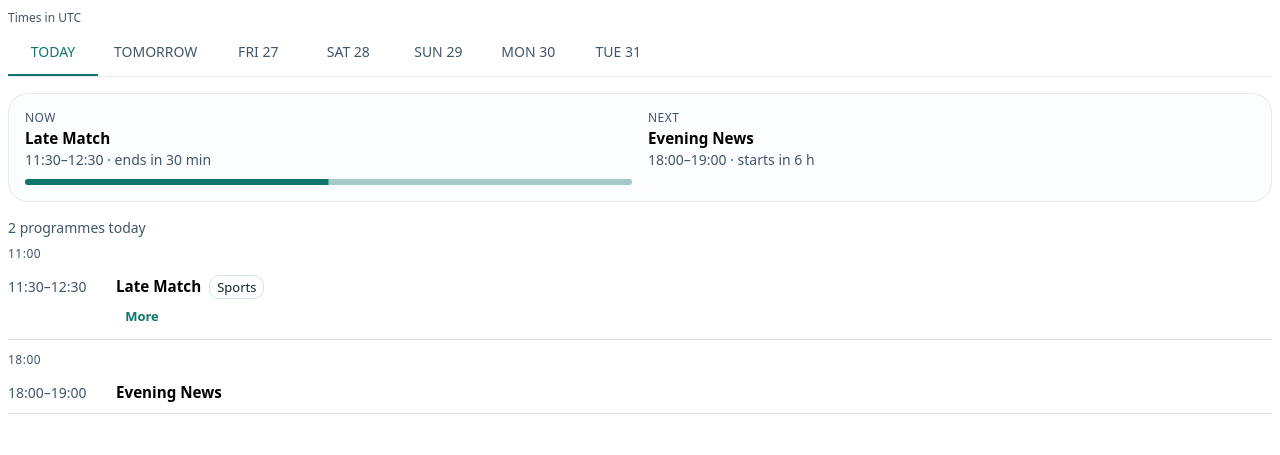
ScheduleView › keeps descriptions collapsed until More is pressed
Step 1. Click the button "More" → (142, 316), box [110,301,174,332]
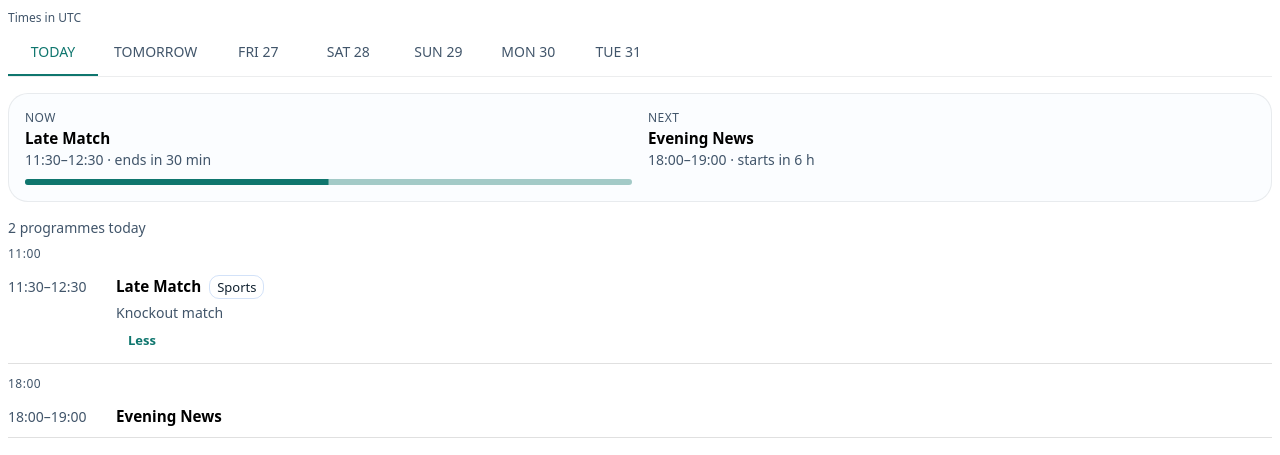
Now the button "Less" is expanded, box [110,325,174,356]
Now the text "Knockout match" is shown, box [116,303,223,322]
